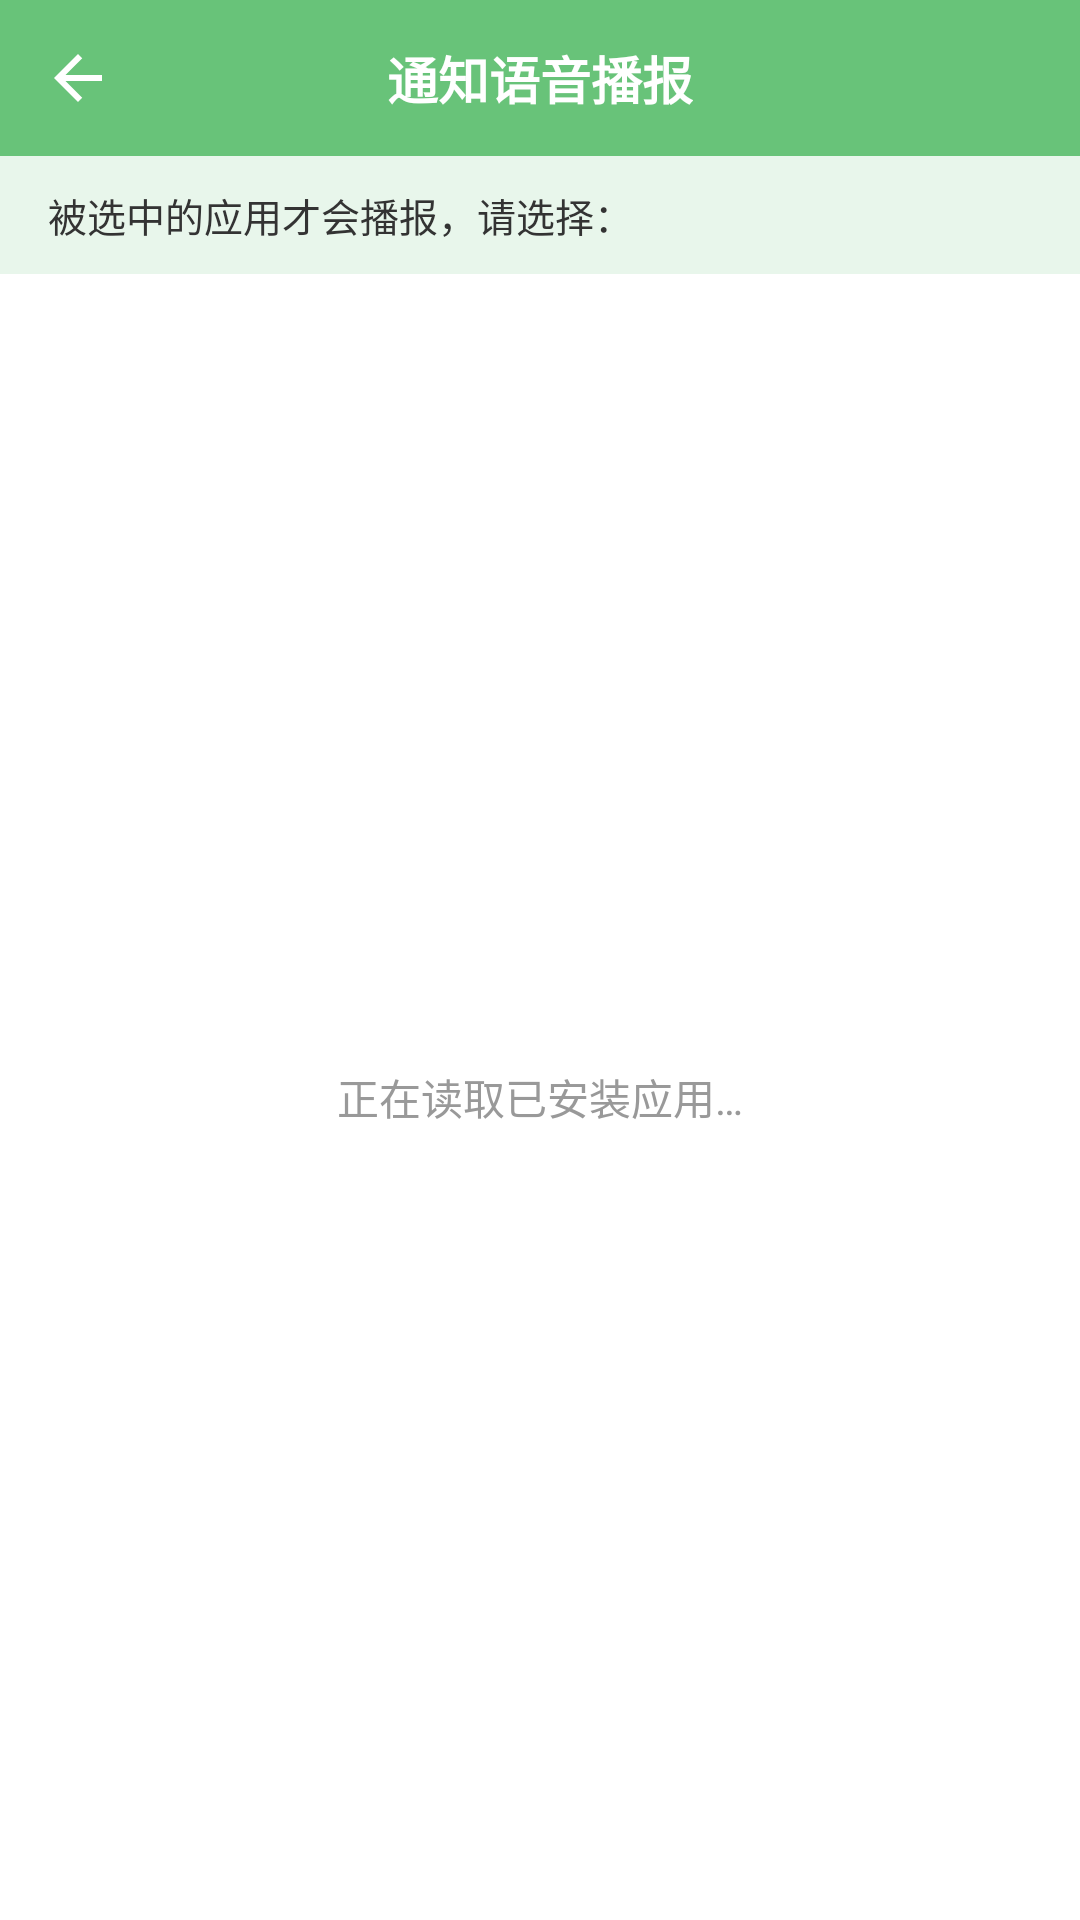

Locate icon controls on the screen. Image size 1080 × 1920, boxes as (x1, y1, x2, y2).
back: (54, 54, 102, 102)
